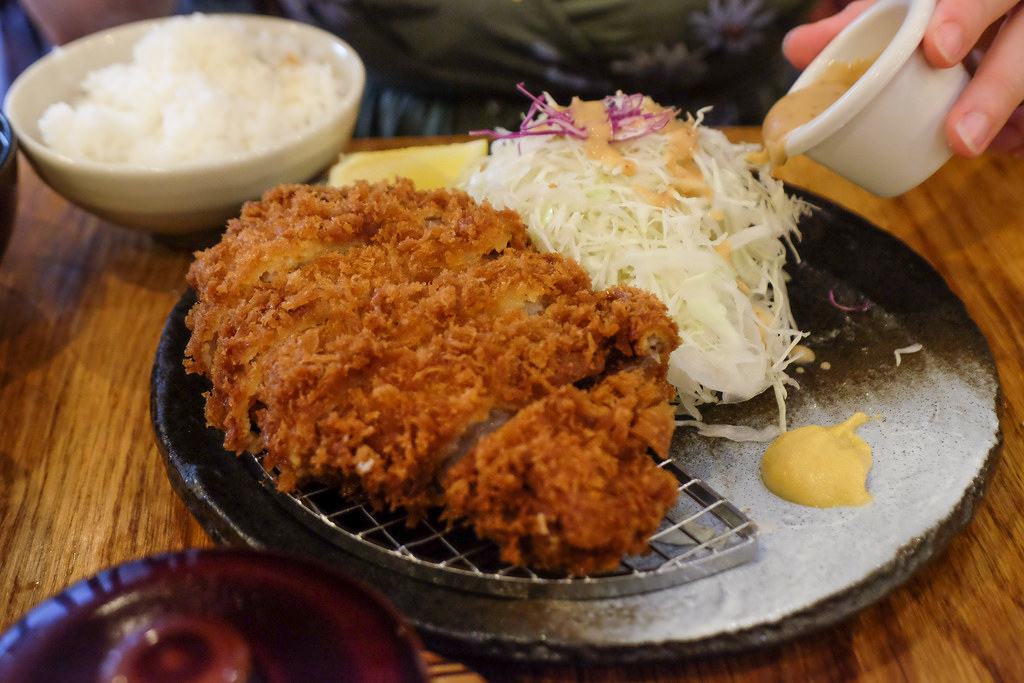plain rice: (75, 30, 288, 141)
